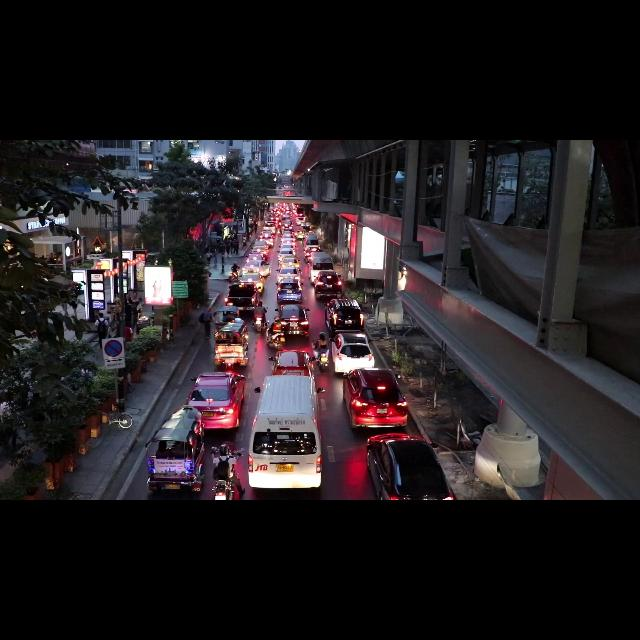car: (367, 434, 455, 499), (343, 369, 407, 427), (188, 373, 245, 429), (331, 333, 374, 372), (326, 299, 363, 336), (270, 351, 313, 377), (278, 304, 310, 338), (225, 283, 259, 310), (314, 271, 343, 299), (277, 279, 302, 303), (240, 273, 264, 292), (242, 260, 270, 276), (278, 267, 299, 282), (304, 245, 321, 262), (260, 231, 274, 247), (304, 233, 319, 246), (280, 257, 299, 267), (279, 248, 294, 260), (281, 242, 295, 254), (246, 253, 264, 261), (254, 240, 269, 248), (252, 246, 267, 254), (263, 221, 275, 231), (296, 229, 305, 239), (296, 216, 305, 225), (301, 222, 310, 230), (282, 238, 294, 244)
motorcycle: (213, 479, 234, 499), (267, 333, 284, 350), (316, 349, 328, 371), (253, 316, 265, 332), (228, 272, 240, 282)
